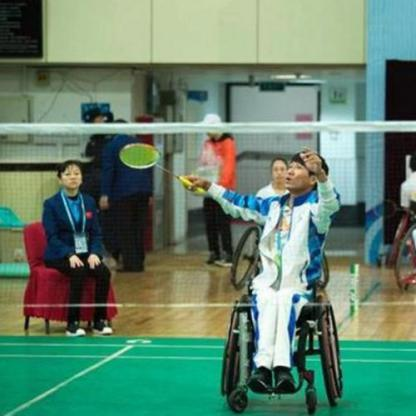wheelchair: (193, 141, 346, 414)
